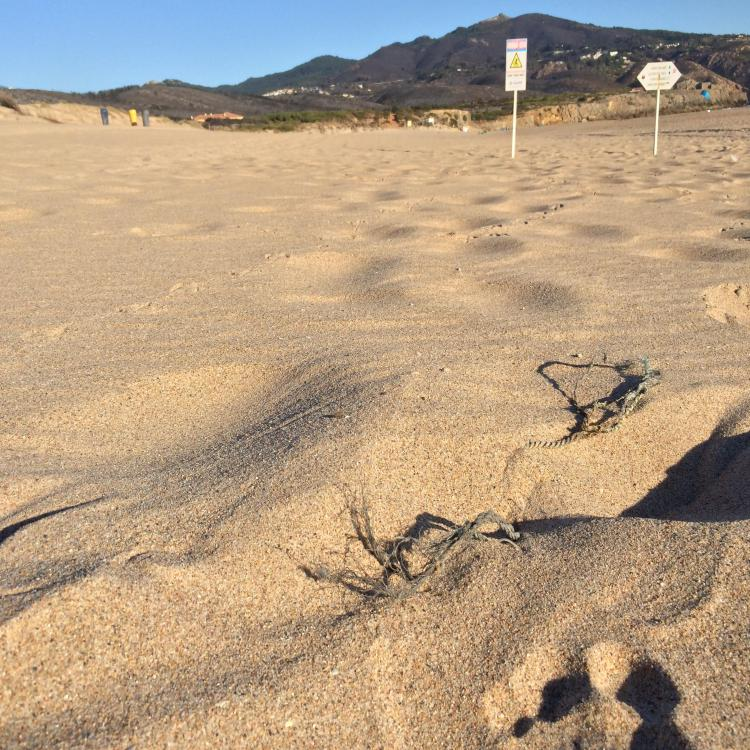Rope - strings: (318, 502, 522, 599), (524, 350, 662, 449)
